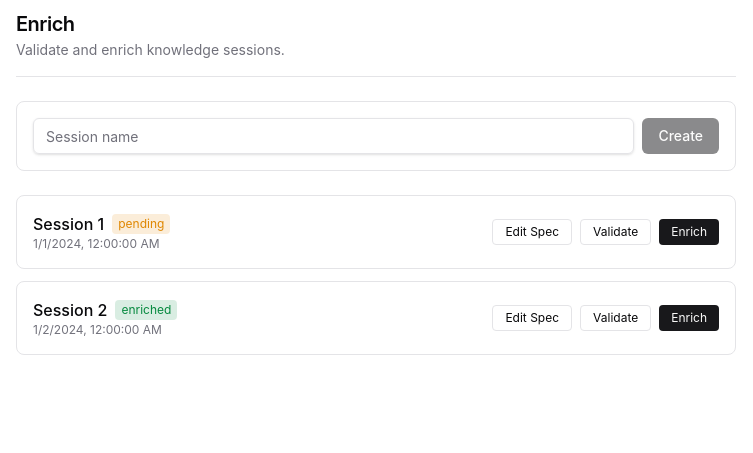
EnrichView › shows validator output after validate
The width and height of the screenshot is (753, 453).
Click the button "Validate" in the row of "pending" at [616, 232], box [580,219,651,245]
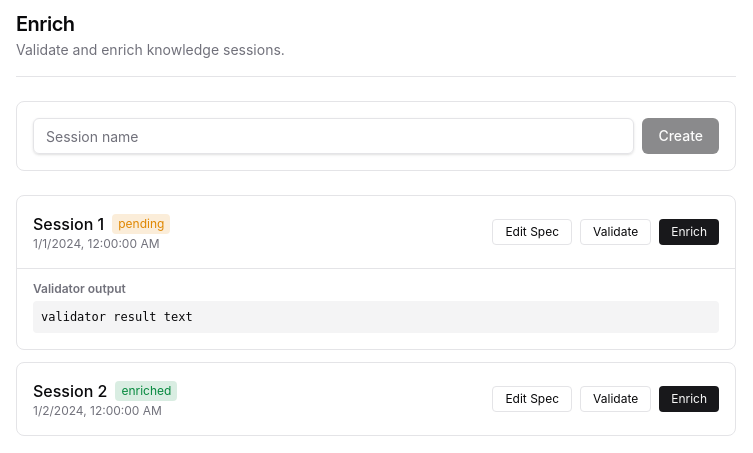
expect the text "validator result text" is shown: met, box [33,301,719,333]
